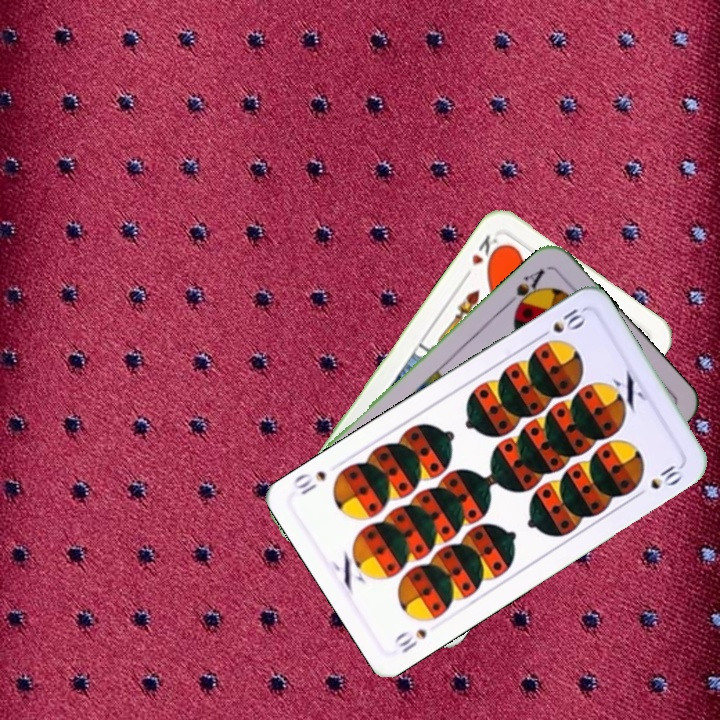HK: (459, 230, 505, 282)
S10: (534, 304, 589, 342), (390, 624, 430, 656)
SA: (502, 265, 548, 315)
